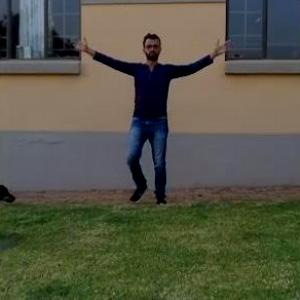takeoff: (82, 30, 235, 193)
